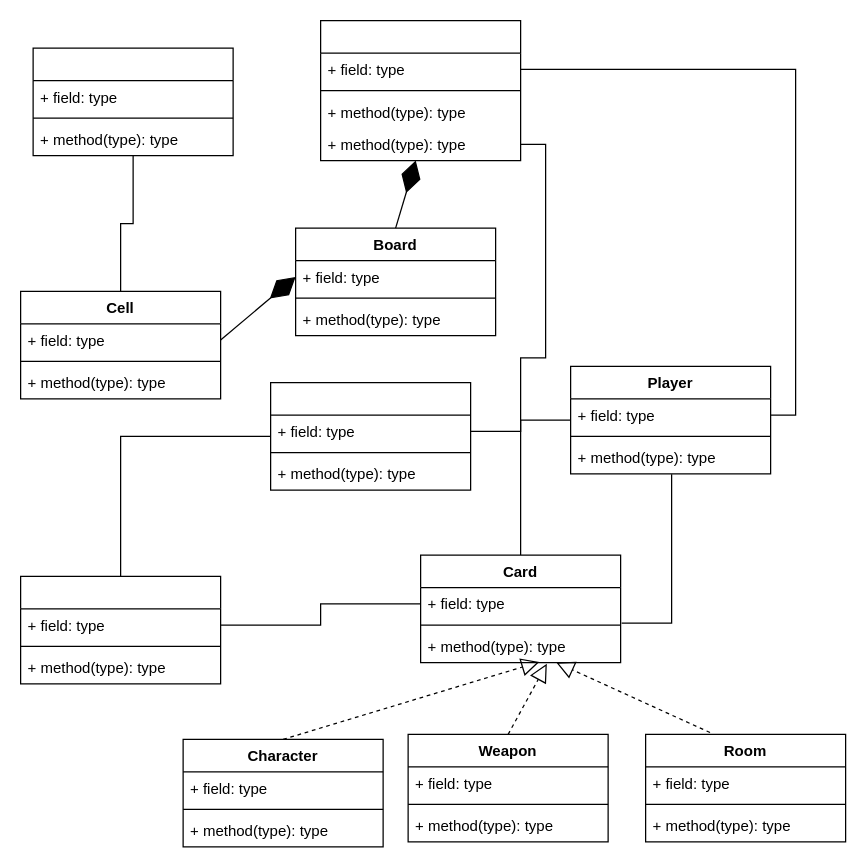
The diagram is 866 pixels wide and 868 high, and some of its shapes have lost their labels. The box of each missing label's shape, as (x1, y1, x2, y2) in pixels:
CluedoGame: (319, 19, 521, 161)
Position: (32, 47, 233, 156)
Suggestion: (19, 575, 221, 684)
Turn: (269, 381, 471, 490)
